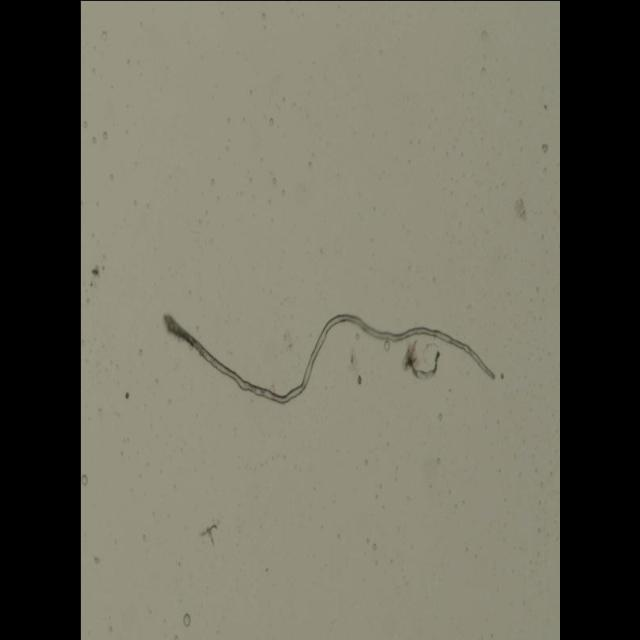Fibre: (162, 309, 496, 403)
